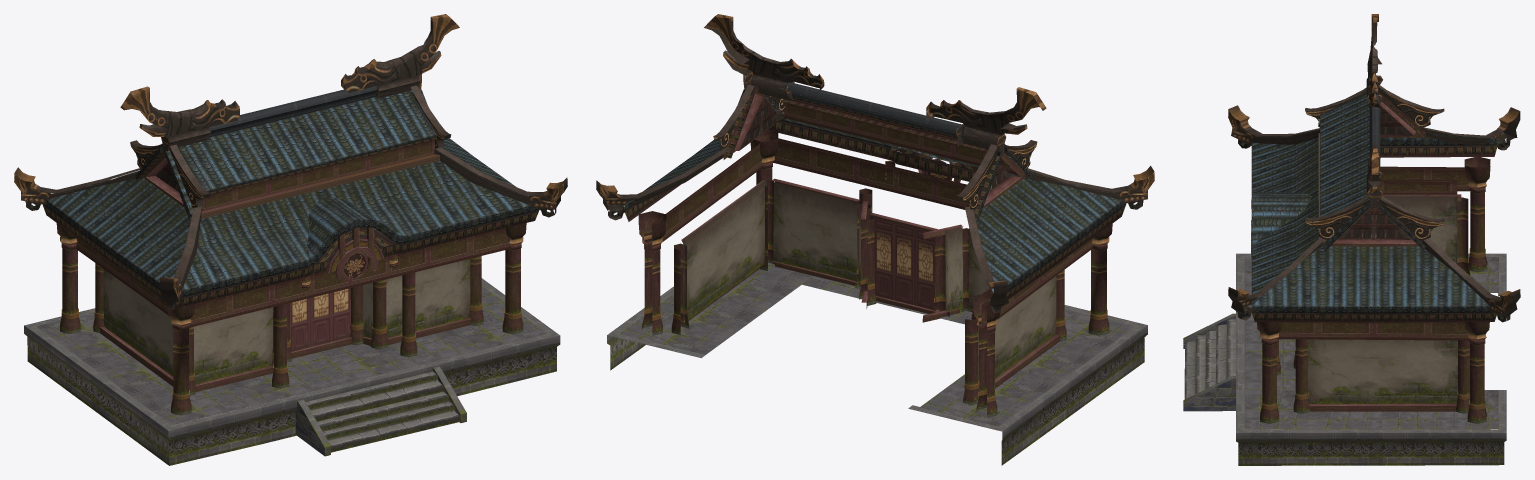
The model's file is 4009_Item_jianzhu_4.FBX.
3 renders of one model, left to right at view 1: azimuth 30°, elevation 25°; view 2: azimuth 150°, elevation 25°; view 3: azimuth 270°, elevation 25°, orthographic. The views are drawn at different scales.
Parts seen in each view (by area): view 1: 4009_Item_jianzhu_4; view 2: 4009_Item_jianzhu_4; view 3: 4009_Item_jianzhu_4.
Part boxes in pixels (x1,y1,x2,y2): 4009_Item_jianzhu_4: [14, 14, 567, 465]; 4009_Item_jianzhu_4: [596, 14, 1154, 465]; 4009_Item_jianzhu_4: [1183, 14, 1520, 465].
Bounding box in the file's own units: 1828 × 1395 × 1344.
